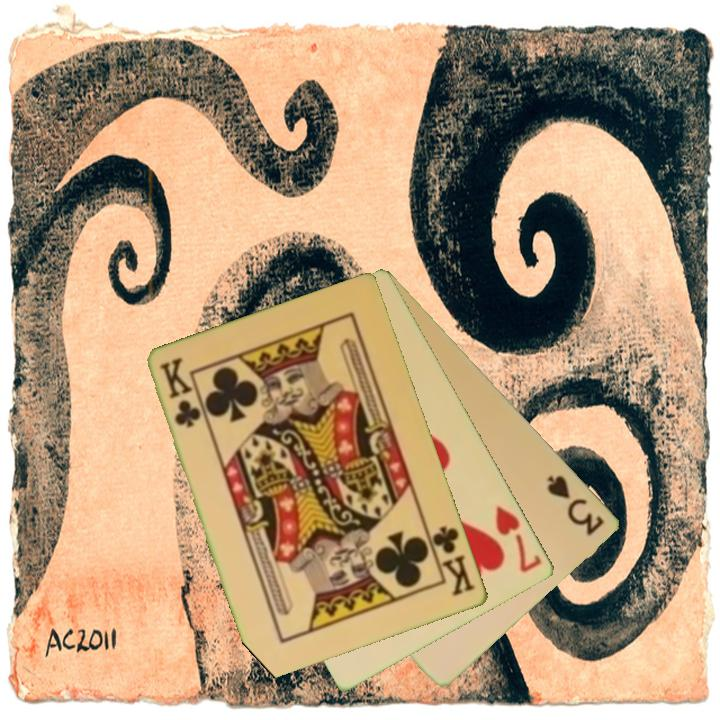3s: (544, 471, 608, 539)
7h: (492, 502, 546, 576)
Kc: (424, 522, 478, 599), (156, 355, 204, 431)
